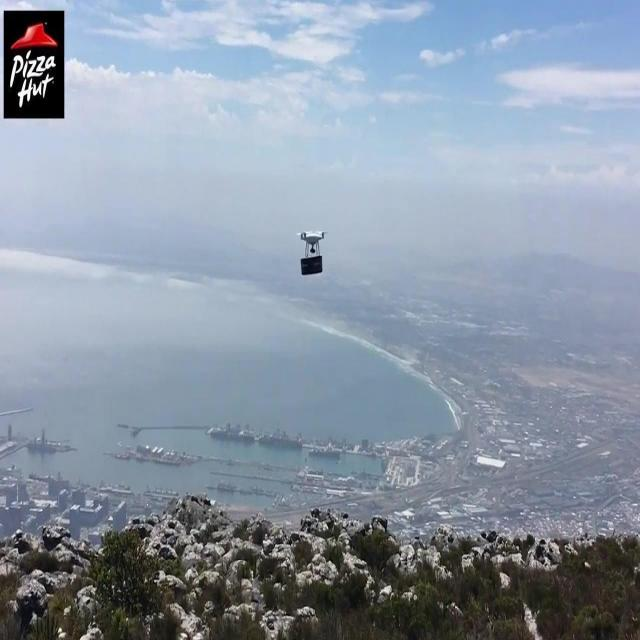UAV: (296, 230, 328, 258)
